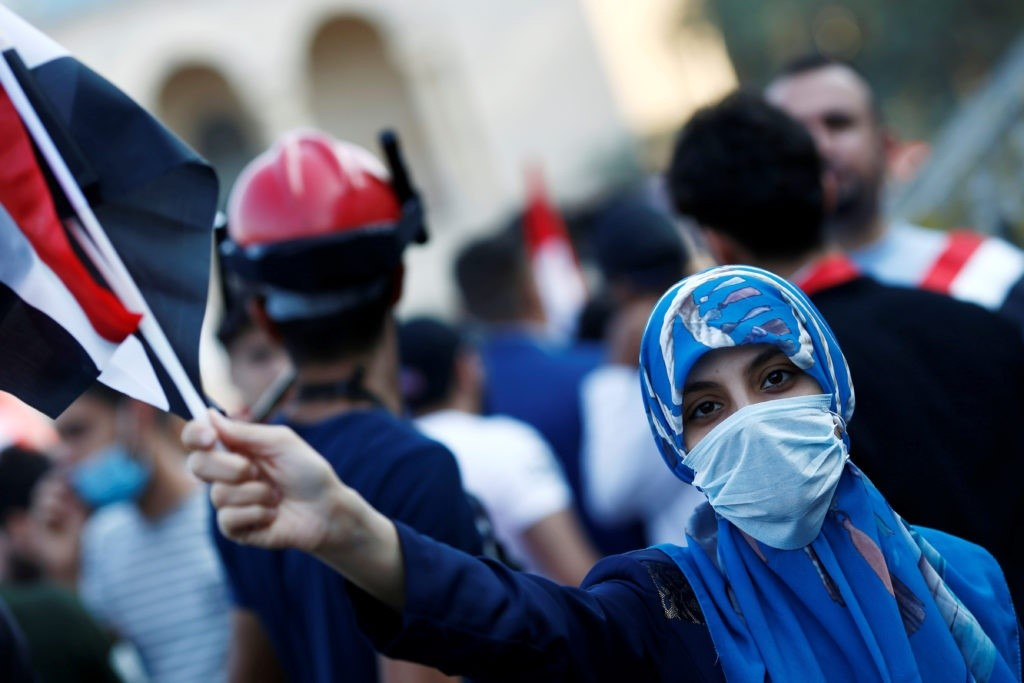face_with_mask: (643, 263, 854, 555)
